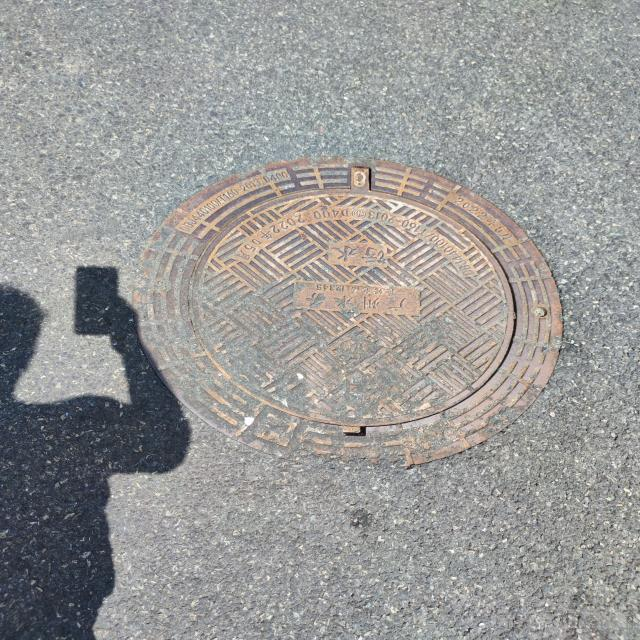Good: (131, 158, 568, 472)
